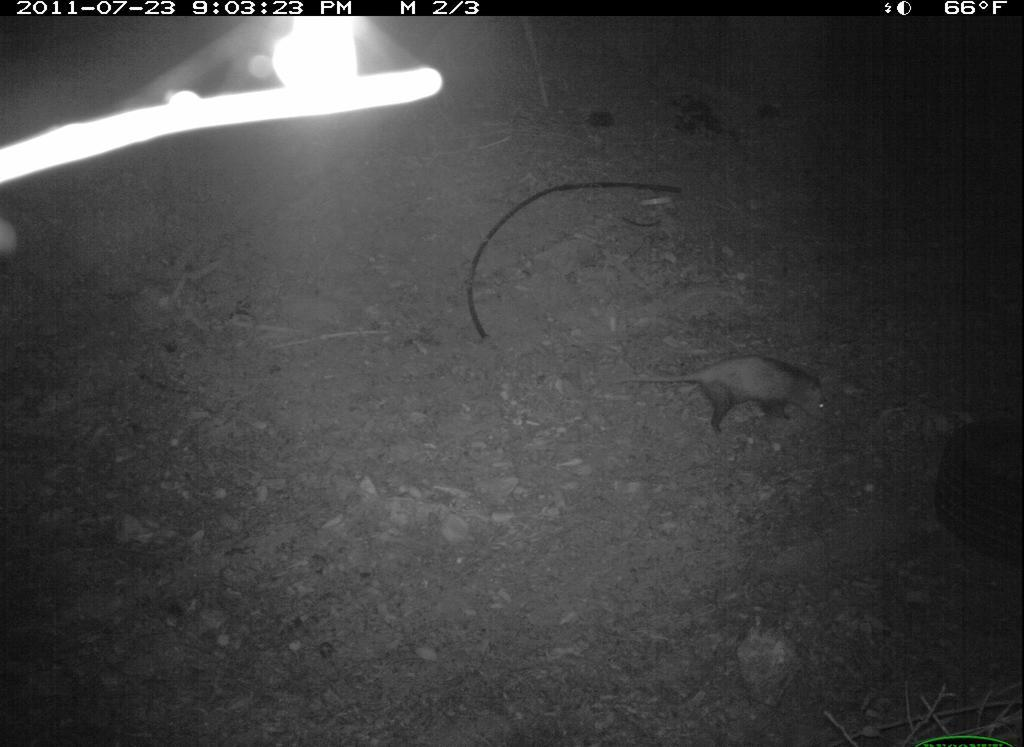opossum: (614, 344, 836, 436)
